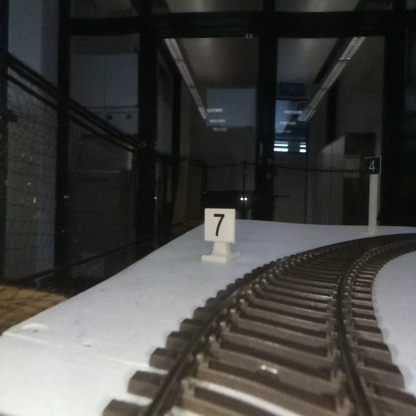black-info-4: (364, 155, 380, 234)
white-stop-7: (204, 208, 235, 260)
